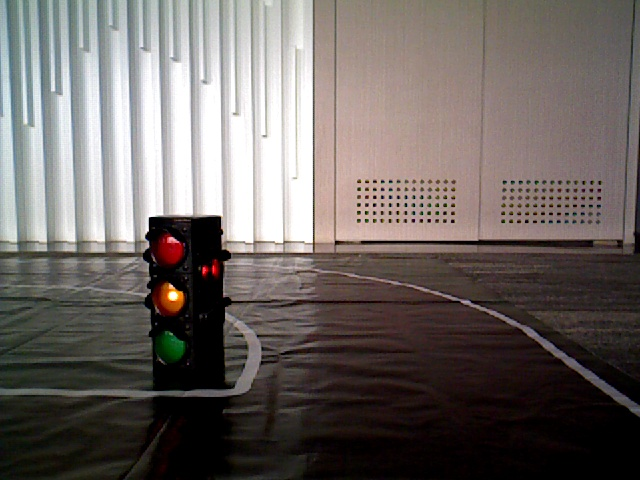yellow: (146, 221, 198, 370)
